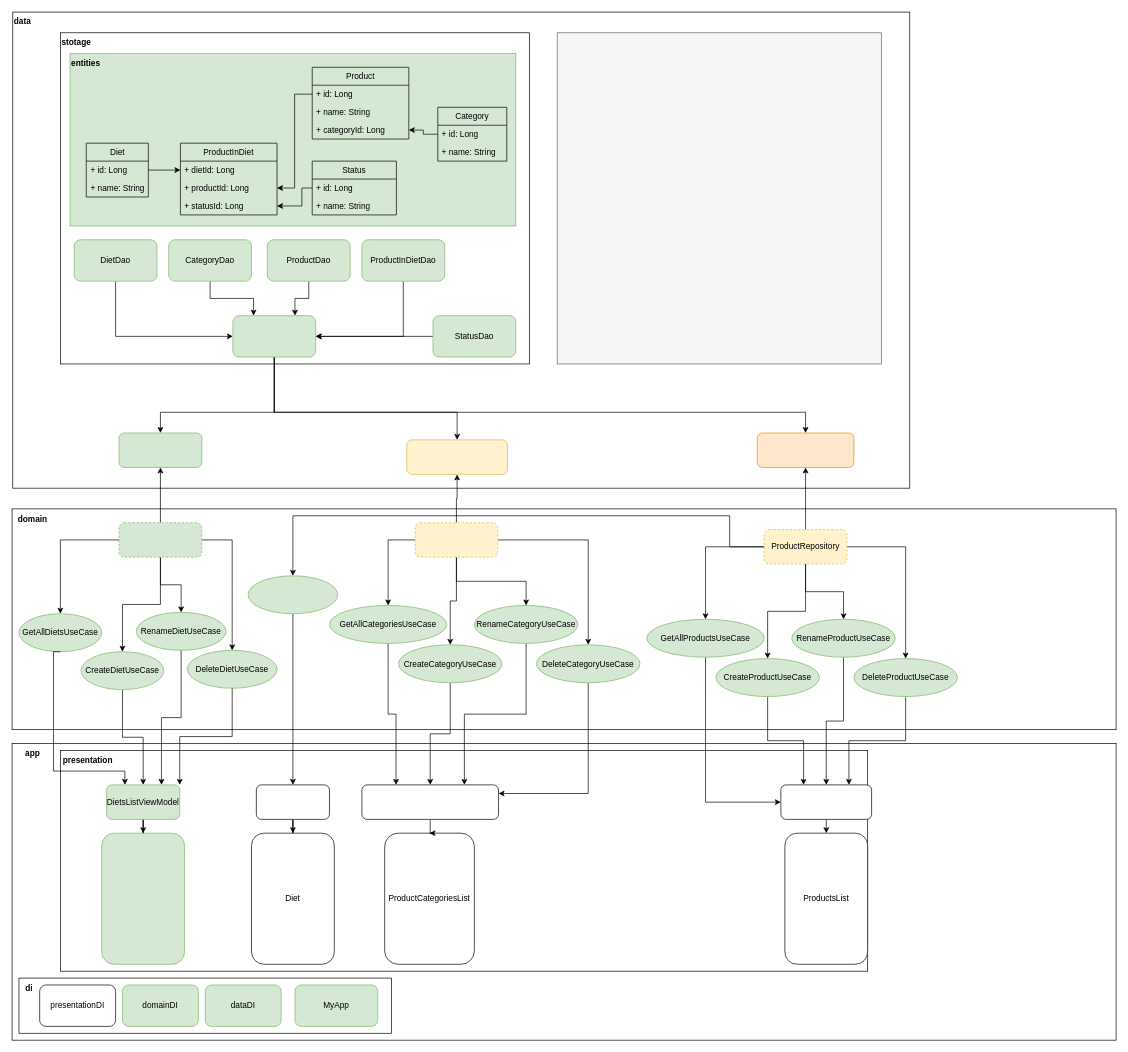
Image size: 1128x1052. Some labels were removed from this diagram. The centre of each missing label's shape, as x and y in pixels:
"AppDb" goes at point (274, 336).
"CategoryRepository" goes at point (456, 539).
"CategoryRepositoryImpl" goes at point (456, 456).
"DietRepository" goes at point (160, 539).
"DietRepositoryImpl" goes at point (160, 449).
"DietsList" goes at point (143, 898).
"DietViewModel" goes at point (292, 801).
"GetProductsByName UseCase" goes at point (292, 594).
"ProductCategoriesListViewModel" goes at point (430, 801).
"ProductRepositoryImpl" goes at point (805, 449).
"ProductsListViewModel" goes at point (826, 801).
"retrofit" goes at point (718, 198).
